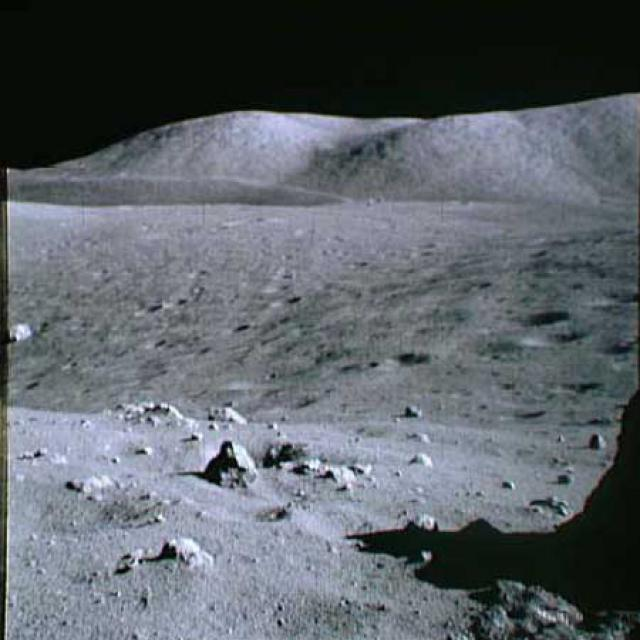crater: (358, 408, 604, 473), (14, 483, 168, 534), (204, 497, 298, 536), (492, 368, 606, 399), (232, 433, 318, 470), (482, 306, 580, 330), (583, 283, 639, 308), (386, 346, 435, 374), (333, 357, 384, 379), (592, 337, 632, 358)
rock: (468, 576, 638, 639), (110, 393, 198, 436), (208, 438, 266, 492), (399, 504, 445, 568), (157, 526, 210, 572), (317, 459, 374, 494), (205, 401, 249, 432), (533, 493, 576, 518), (405, 449, 440, 474), (546, 462, 577, 486), (400, 396, 426, 422), (8, 320, 33, 344), (586, 429, 611, 452), (404, 428, 430, 448)
